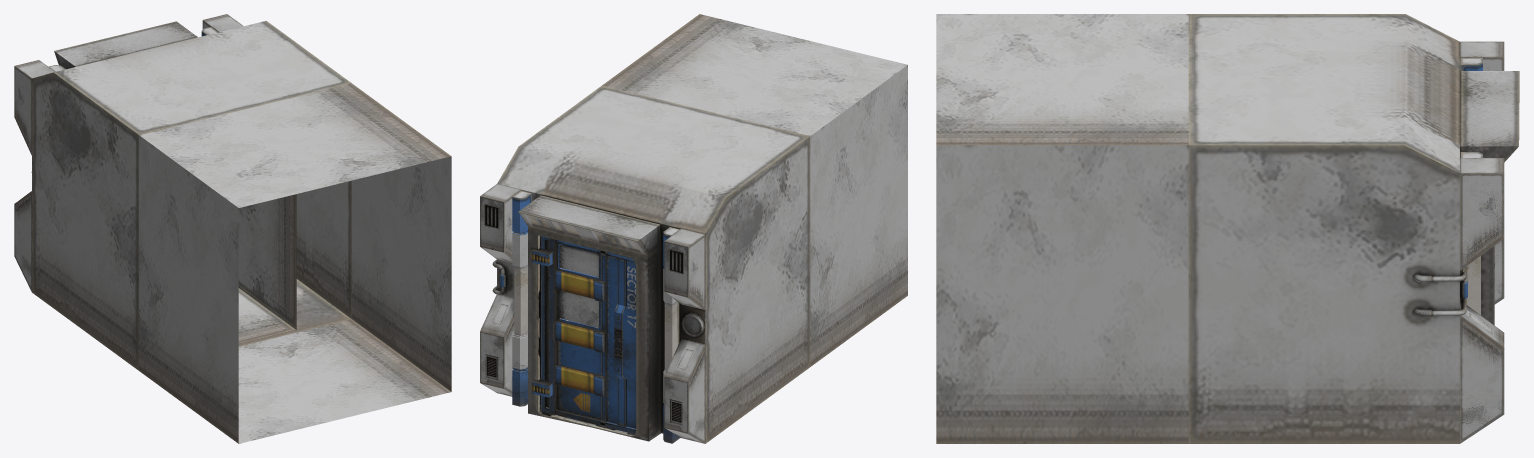
File: strct_WH_Z1_halldoor.fbx
3 renders of one model, left to right at view 1: azimuth 30°, elevation 25°; view 2: azimuth 150°, elevation 25°; view 3: azimuth 270°, elevation 25°, orthographic. The views are drawn at different scales.
Visible parts, largest first — view 1: polySurface88; view 2: polySurface88, polySurface86; view 3: polySurface88.
Part boxes in pixels (bbox=[...]): polySurface88: bbox=[14, 14, 451, 443]; polySurface88: bbox=[480, 14, 907, 443]; polySurface86: bbox=[531, 236, 636, 434]; polySurface88: bbox=[936, 14, 1519, 443].
Size of the model in its own units: 151 by 156 by 277.
